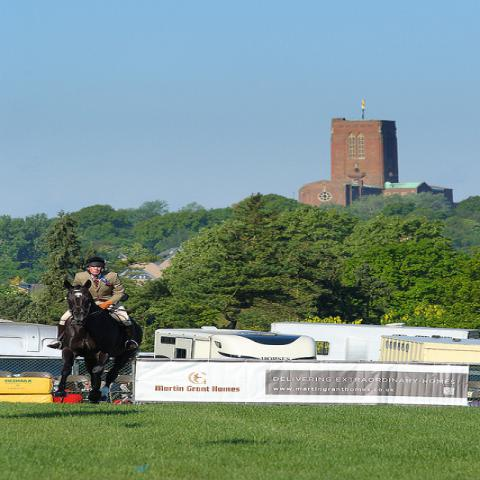bus: (150, 329, 318, 360)
truck: (269, 323, 469, 362), (154, 326, 316, 360), (378, 335, 479, 363), (0, 320, 63, 358)
